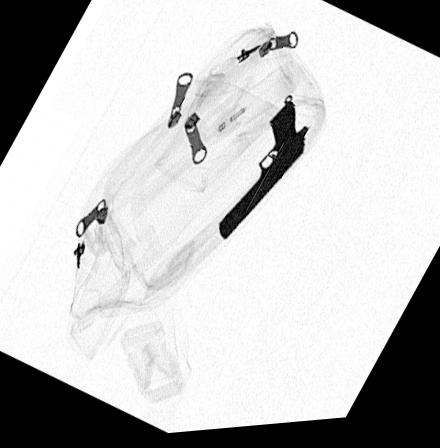Gun: (215, 101, 309, 248)
